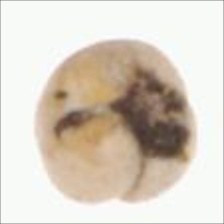L6: (32, 38, 199, 205), (107, 64, 192, 166)
